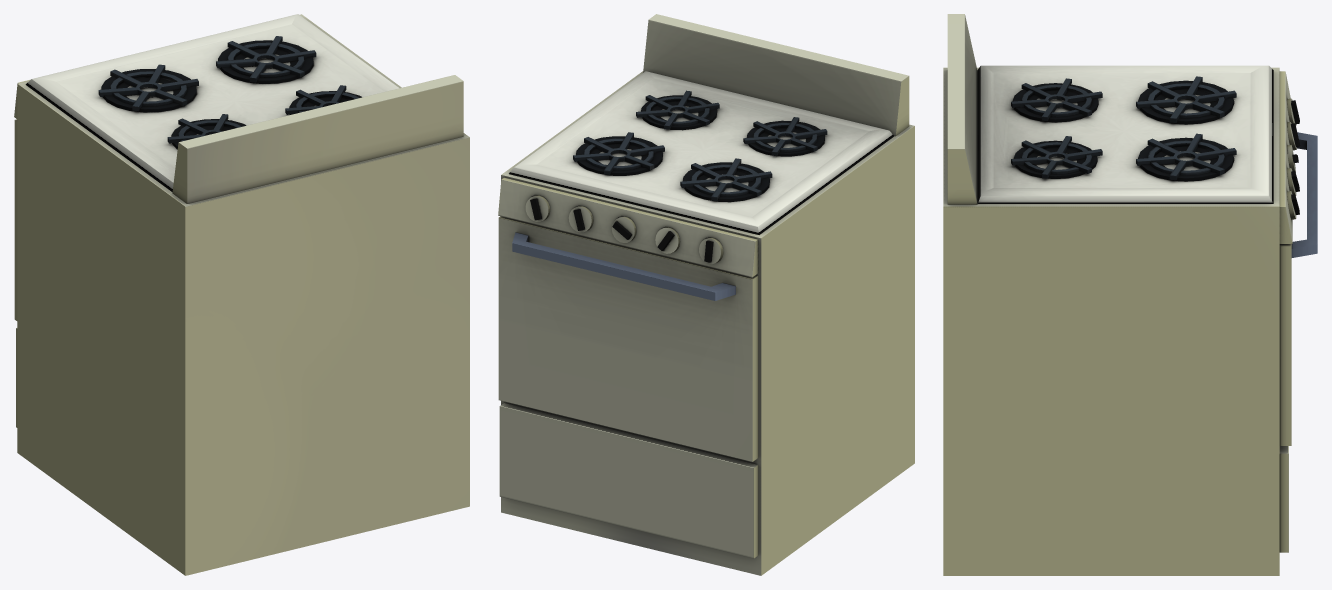
The model's file is stove.fbx.
The picture shows the model from 3 angles, left to right: view 1: azimuth 30°, elevation 25°; view 2: azimuth 150°, elevation 25°; view 3: azimuth 270°, elevation 25°; orthographic projection. The views are drawn at different scales.
Parts seen in each view (by area): view 1: stove; view 2: stove; view 3: stove.
Boxes of the visible parts, <box> form: stove: <box>14,14,469,575</box>; stove: <box>498,14,914,575</box>; stove: <box>943,14,1317,575</box>.
Size of the model in its own units: 154 by 219 by 175.
